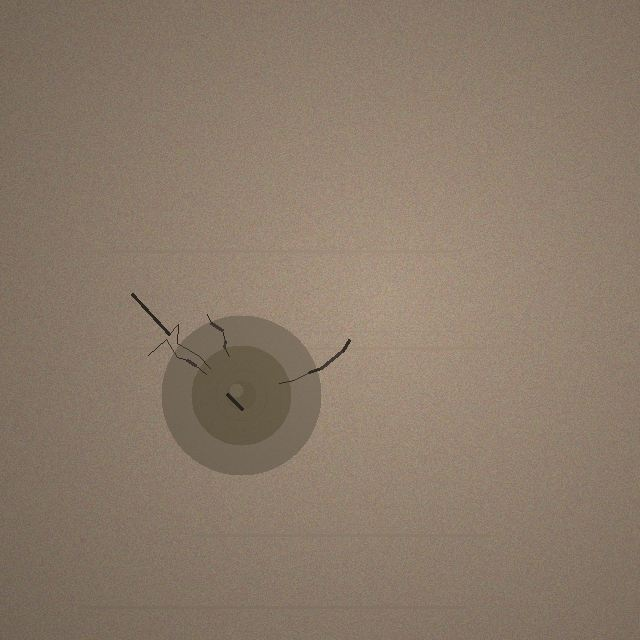crack: (161, 315, 321, 475)
